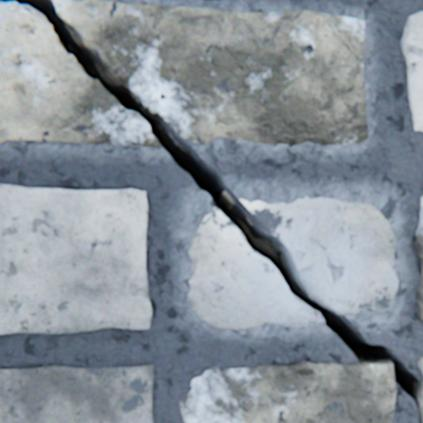brick: (0, 185, 152, 334), (179, 360, 395, 422), (0, 364, 154, 422), (401, 13, 422, 131), (413, 196, 422, 320), (417, 357, 422, 375), (420, 378, 422, 422)
broken_brick: (53, 0, 367, 147), (0, 3, 162, 147), (240, 197, 397, 314), (188, 208, 324, 329)
crack: (0, 0, 421, 422)
